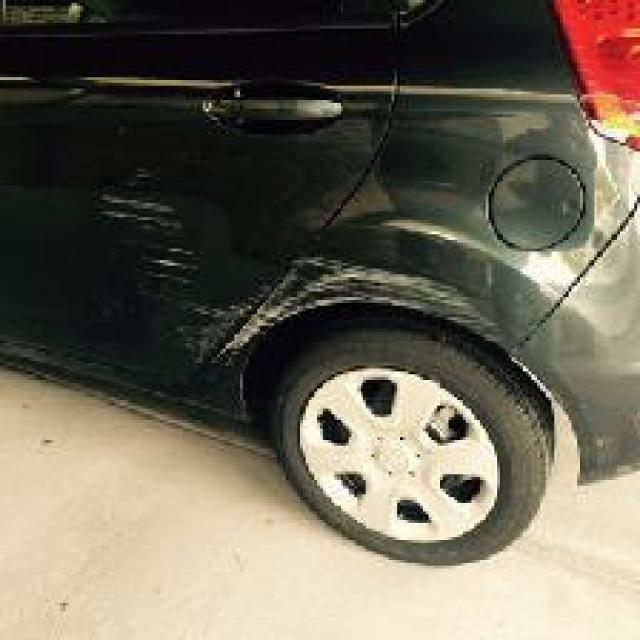damaged: (91, 182, 518, 368)
